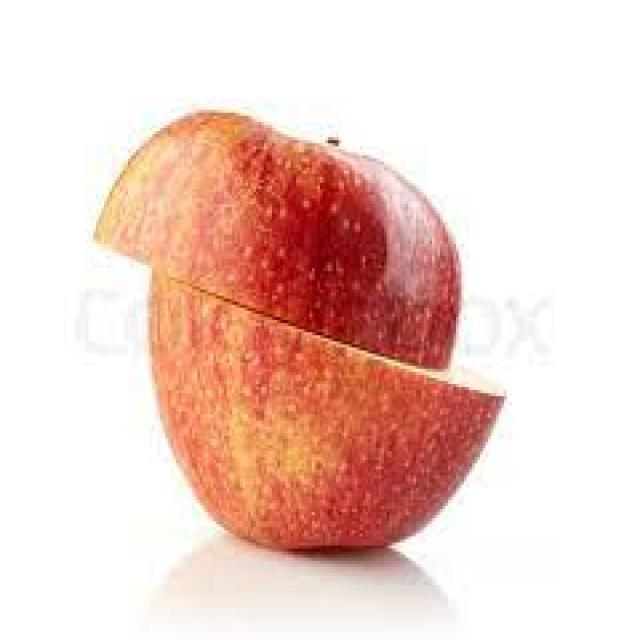Apple: (92, 108, 506, 552)
